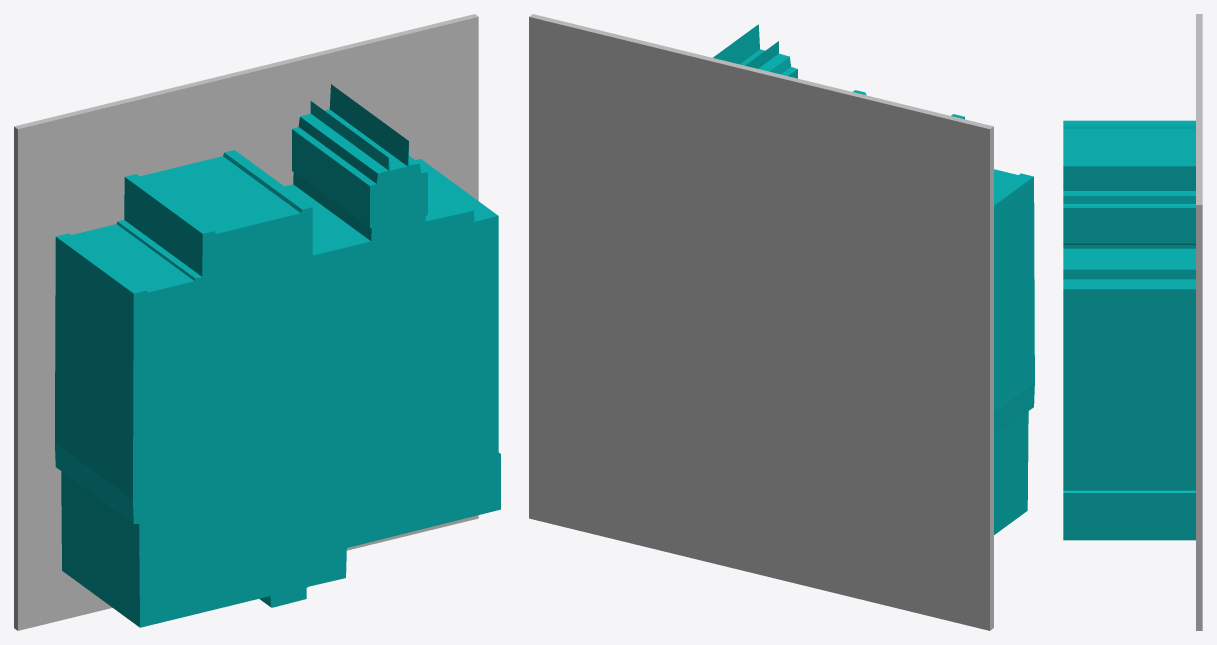
3 views of the same model, side by side, from view 1: azimuth 30°, elevation 25°; view 2: azimuth 150°, elevation 25°; view 3: azimuth 270°, elevation 25° (orthographic). The views are drawn at different scales.
Visible parts, largest first — view 1: world; view 2: world; view 3: world.
Boxes of the visible parts, x1,y1,x2,y2 form: world: (14,14,500,630); world: (529,14,1034,630); world: (1063,14,1202,630).
Size of the model in its own units: 10.23 by 10.64 by 3.15.
